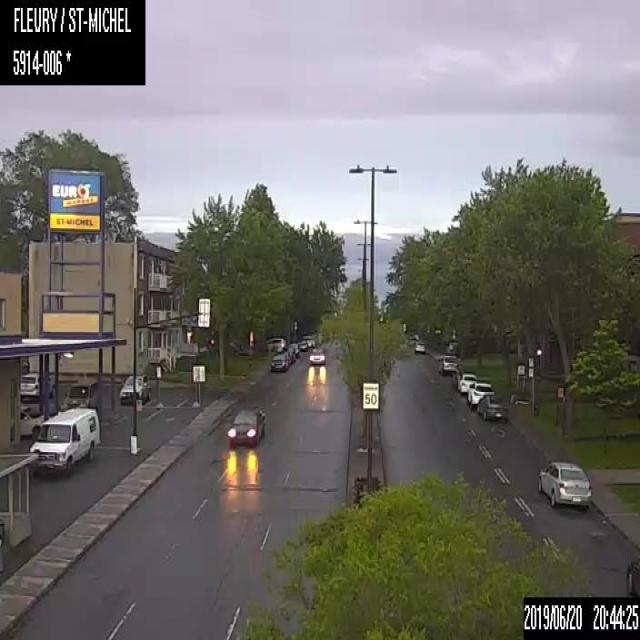vehicle: (28, 406, 101, 479), (537, 460, 593, 508), (227, 404, 266, 448), (63, 376, 101, 416), (19, 404, 49, 440), (119, 373, 152, 404), (20, 371, 54, 400), (476, 393, 509, 422), (466, 380, 494, 411), (451, 368, 477, 395), (624, 553, 639, 596), (436, 352, 458, 375), (269, 351, 289, 372), (264, 336, 286, 352), (308, 346, 326, 364), (284, 342, 295, 362), (414, 339, 426, 353), (290, 340, 299, 358), (297, 340, 307, 350), (306, 338, 314, 347)
